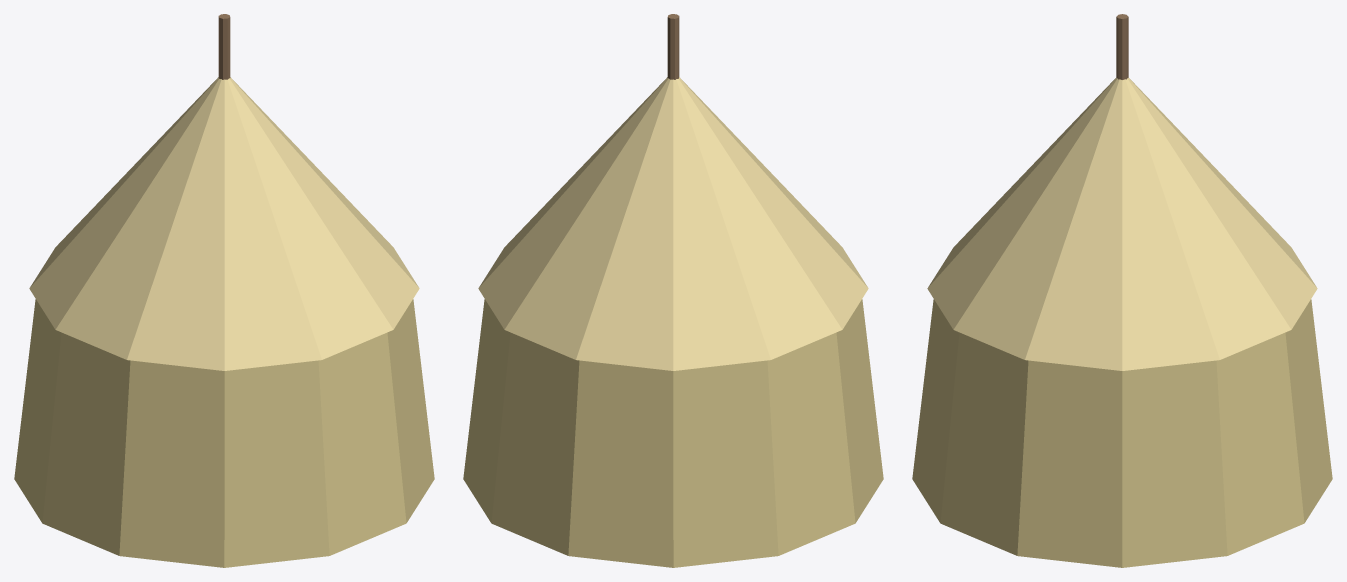
The model's file is haystack.glb.
3 views of the same model, side by side, from view 1: azimuth 30°, elevation 25°; view 2: azimuth 150°, elevation 25°; view 3: azimuth 270°, elevation 25° (orthographic).
Parts seen in each view (by area): view 1: haystack; view 2: haystack; view 3: haystack.
Boxes of the visible parts, box(x1,y1,x2,y2) form: haystack: box(14, 14, 434, 567); haystack: box(463, 14, 883, 567); haystack: box(912, 14, 1332, 567).
Size of the model in its own units: 2.8 by 3.4 by 2.8.
